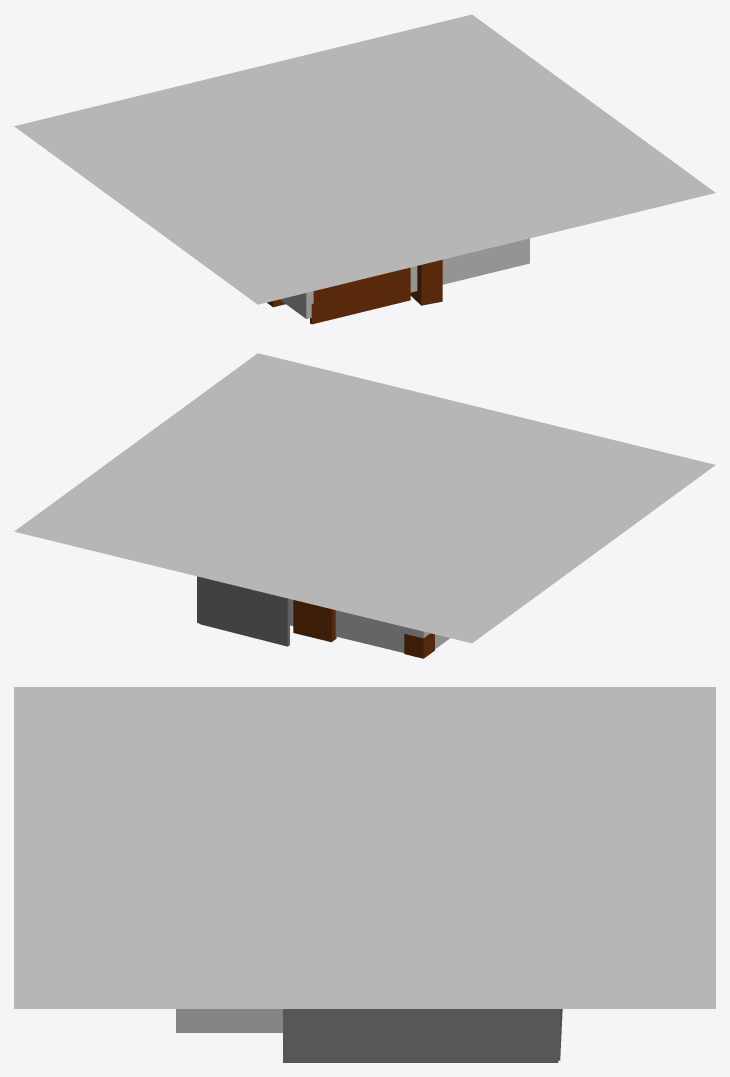
The model's file is tendersList.fbx.
3 views of the same model, one above another, from view 1: azimuth 30°, elevation 25°; view 2: azimuth 150°, elevation 25°; view 3: azimuth 270°, elevation 25° (orthographic). The views are drawn at different scales.
Visible parts, largest first — view 1: Plane, Cube.002, Cube; view 2: Plane, Cube.004, Cube.009; view 3: Plane.
Part boxes in pixels (x1,y1,x2,y2): Plane: (14,14,715,318); Cube.002: (310,267,410,324); Cube: (267,259,442,307); Plane: (14,353,715,652); Cube.004: (293,600,336,642); Cube.009: (404,633,434,658); Plane: (14,687,715,1062).
Bounding box in the file's own units: 1462 × 305 × 1348.
